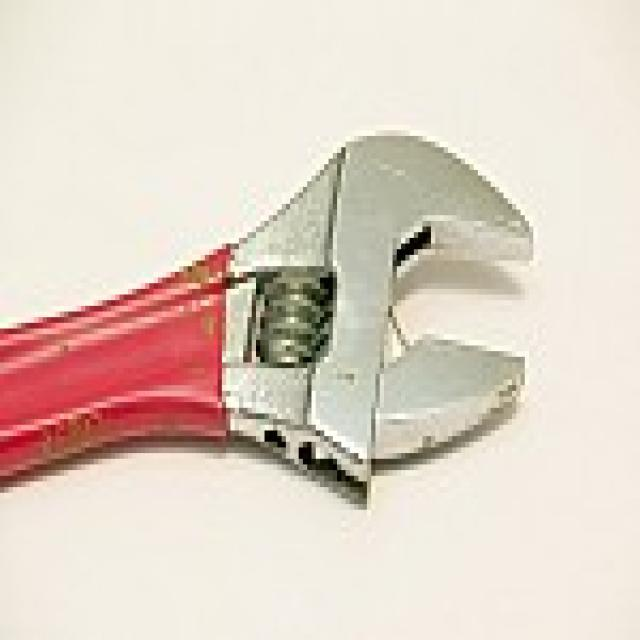wrench: (0, 118, 541, 502)
